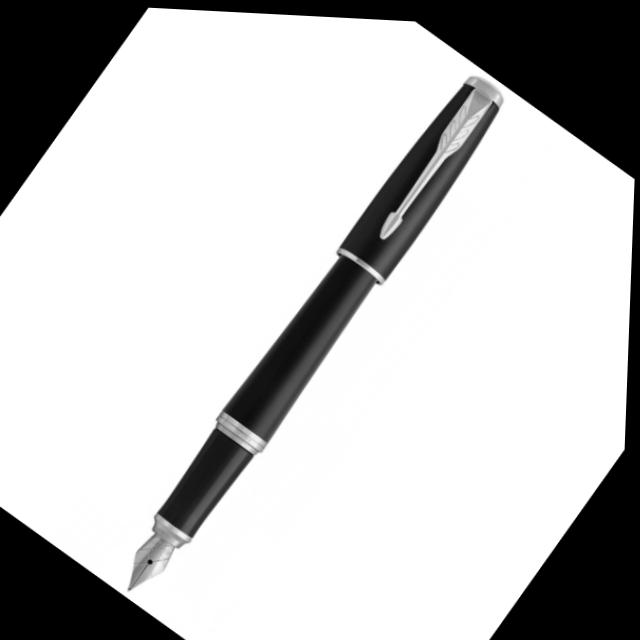pen: (100, 49, 514, 629)
